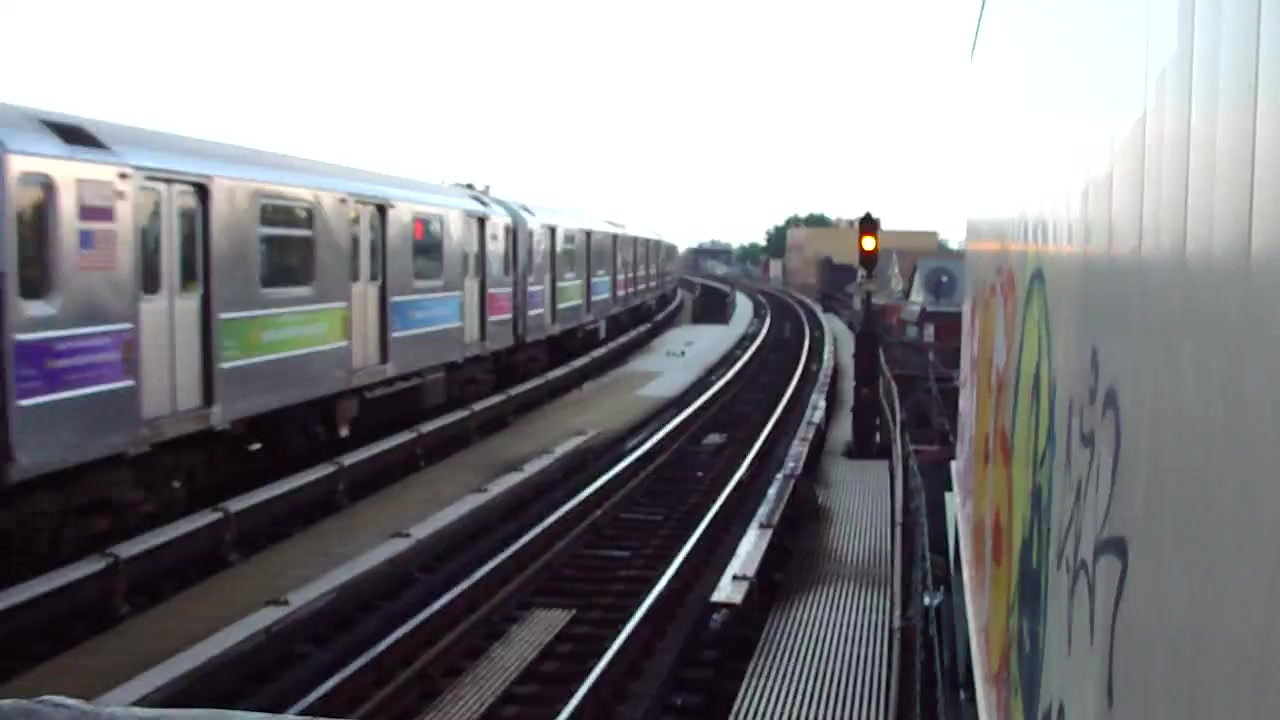train: (1, 90, 688, 507)
